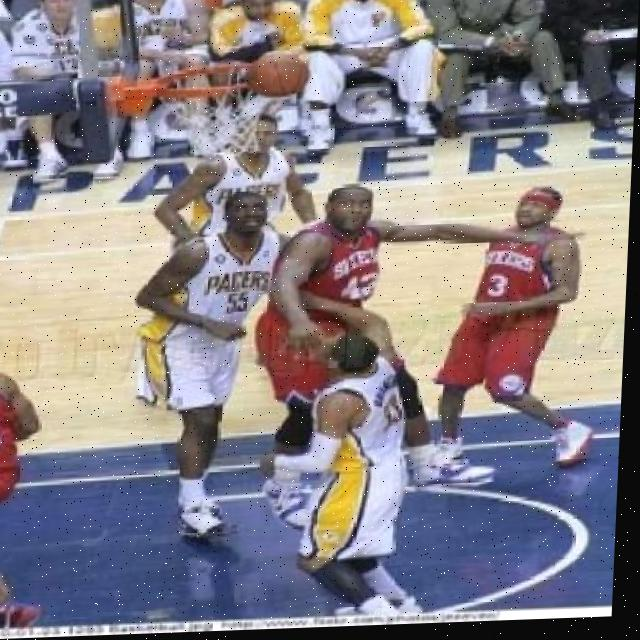basketball: (246, 52, 311, 101)
hoop: (153, 58, 282, 163)
